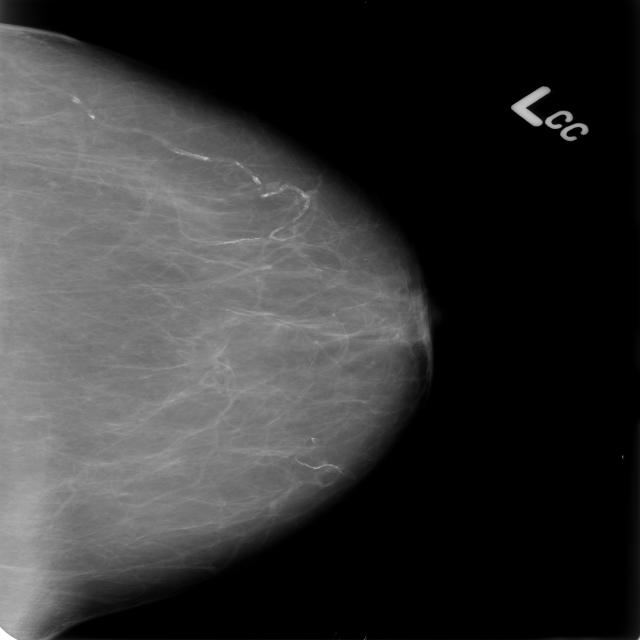normal: (0, 31, 432, 566)
